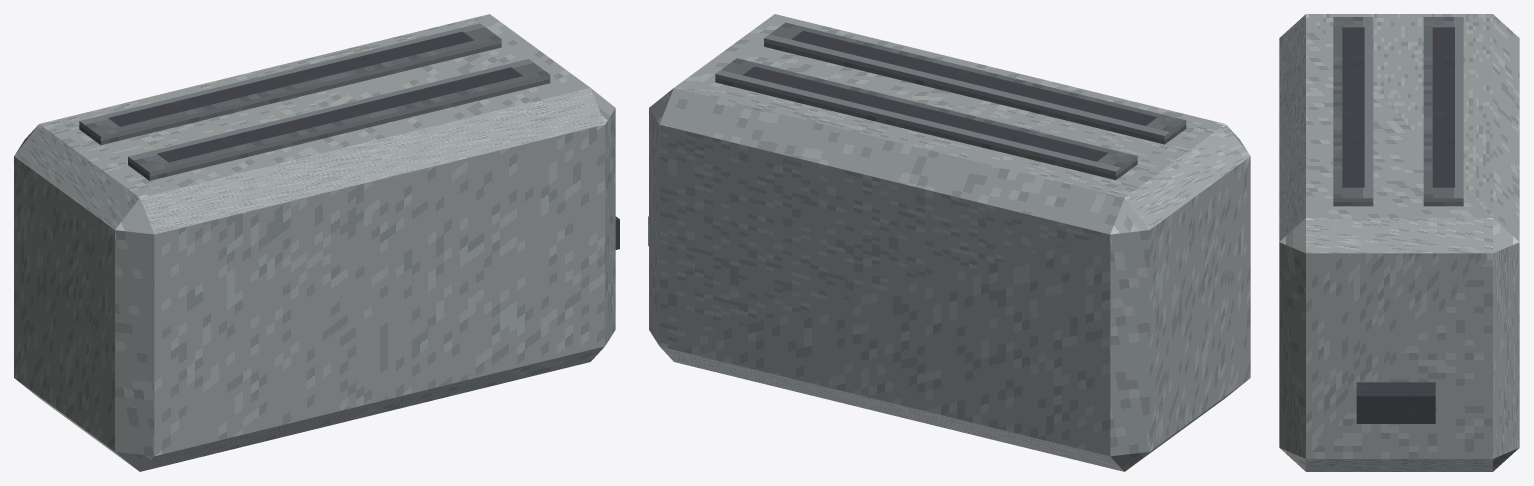
File: toaster.glb
The picture shows the model from 3 angles, left to right: view 1: azimuth 30°, elevation 25°; view 2: azimuth 150°, elevation 25°; view 3: azimuth 270°, elevation 25°; orthographic projection. The views are drawn at different scales.
Parts seen in each view (by area): view 1: block_appliance housing, block_rolled slot trim (×2), block_bread slot (×2); view 2: block_appliance housing, block_rolled slot trim (×2), block_bread slot (×2); view 3: block_appliance housing, block_rolled slot trim (×2), block_bread slot (×2), block_lever.
Part boxes in pixels (x1,y1,x2,y2): block_appliance housing: (14, 14, 615, 471); block_rolled slot trim (×2): (79, 23, 550, 180); block_bread slot (×2): (108, 31, 522, 162); block_appliance housing: (649, 14, 1250, 471); block_rolled slot trim (×2): (715, 22, 1186, 179); block_bread slot (×2): (742, 31, 1156, 161); block_appliance housing: (1279, 14, 1519, 471); block_rolled slot trim (×2): (1333, 17, 1463, 206); block_bread slot (×2): (1342, 27, 1454, 187); block_lever: (1356, 382, 1435, 423).
Size of the model in its own units: 0.1708 by 0.0869 by 0.0721.
1 material, 1 textured.
